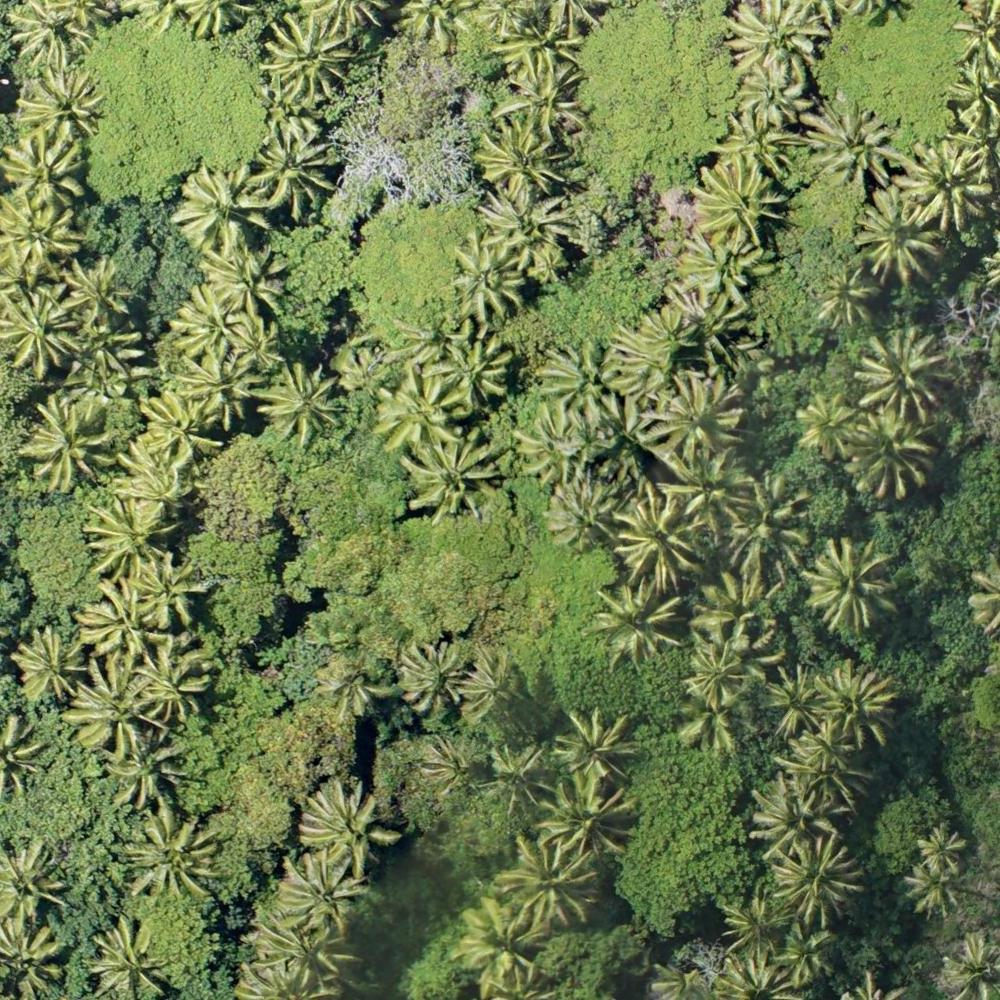Palm: (608, 480, 706, 583), (854, 324, 950, 424), (500, 832, 601, 926), (452, 894, 548, 991), (67, 657, 161, 751), (902, 138, 997, 231), (811, 100, 903, 194), (726, 476, 814, 574), (804, 538, 898, 629), (642, 375, 743, 459), (856, 188, 947, 281), (847, 405, 936, 500), (253, 116, 337, 216), (25, 396, 116, 488), (125, 804, 215, 897), (301, 780, 391, 873), (404, 429, 500, 516), (751, 774, 845, 861), (662, 279, 745, 377), (249, 906, 347, 988), (180, 164, 268, 254), (812, 662, 904, 748), (263, 13, 351, 101), (478, 189, 573, 269), (772, 839, 858, 927), (597, 577, 681, 667), (538, 782, 635, 859), (2, 280, 81, 374), (725, 2, 826, 75), (693, 156, 785, 236), (478, 123, 576, 198), (196, 245, 289, 323), (452, 233, 532, 322), (86, 498, 170, 582), (273, 850, 363, 928), (254, 366, 342, 445), (498, 61, 583, 141), (678, 223, 769, 297), (135, 638, 216, 721), (79, 582, 165, 659), (554, 708, 640, 784), (662, 454, 748, 530), (93, 914, 174, 992), (2, 196, 79, 277), (693, 567, 779, 639), (429, 335, 508, 413), (380, 375, 457, 455), (538, 341, 618, 418), (171, 282, 248, 361), (14, 66, 98, 138), (485, 744, 562, 821), (7, 132, 85, 208), (178, 349, 256, 425), (516, 410, 593, 484), (10, 1, 92, 69), (138, 391, 218, 460), (395, 635, 467, 711), (126, 558, 207, 625), (111, 725, 185, 798), (545, 476, 620, 548), (718, 107, 799, 172), (14, 626, 83, 699), (502, 12, 583, 73), (681, 640, 750, 706), (737, 60, 807, 125), (761, 665, 826, 733), (462, 649, 521, 723), (795, 390, 859, 458), (719, 897, 785, 959), (67, 261, 126, 328), (226, 313, 286, 375), (774, 922, 834, 983), (425, 738, 485, 798), (906, 864, 965, 924), (822, 268, 881, 325), (915, 823, 968, 879), (798, 727, 851, 772)
